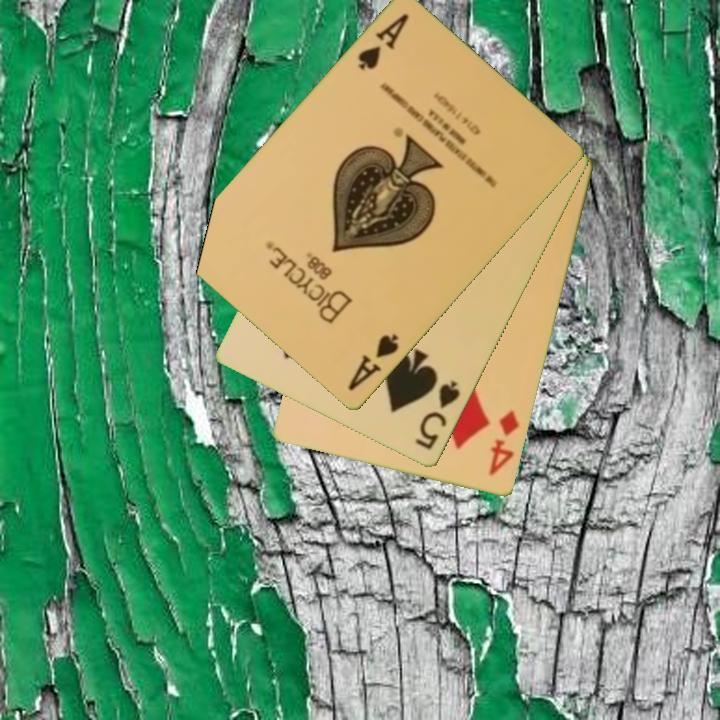4d: (485, 407, 523, 480)
5s: (411, 377, 463, 453)
As: (344, 331, 402, 395), (354, 10, 412, 74)
